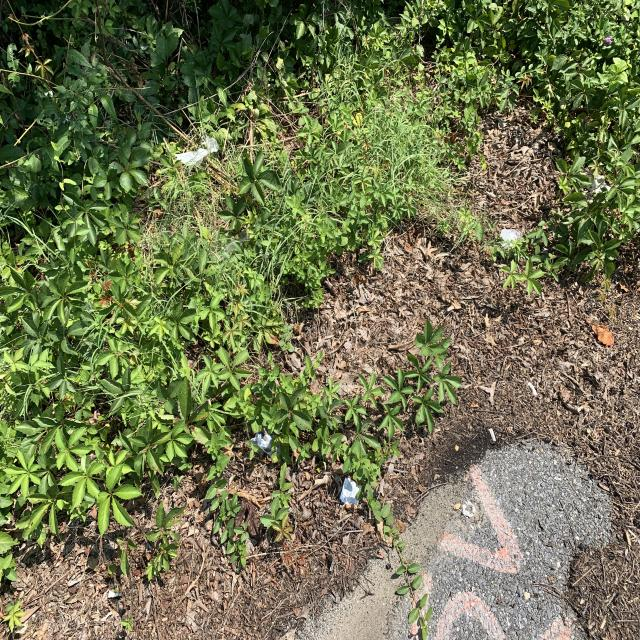Paper: (174, 133, 219, 171), (250, 431, 286, 459), (339, 473, 363, 509), (497, 222, 522, 254)
